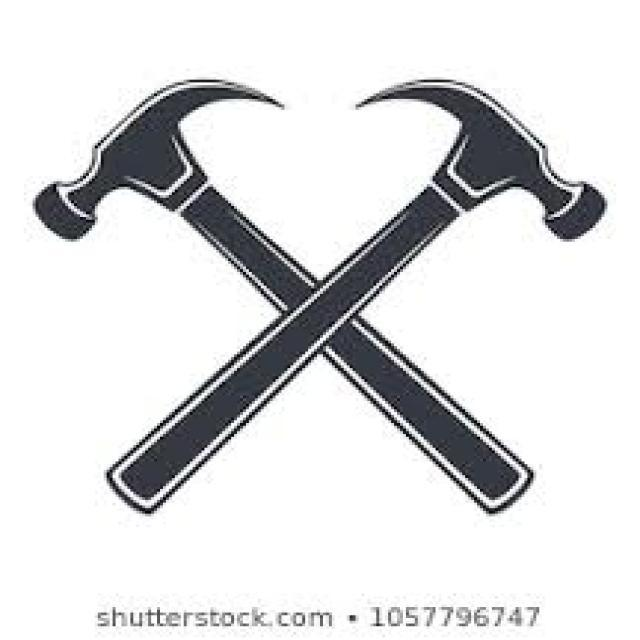Palu: (104, 63, 612, 525), (34, 74, 534, 514)
